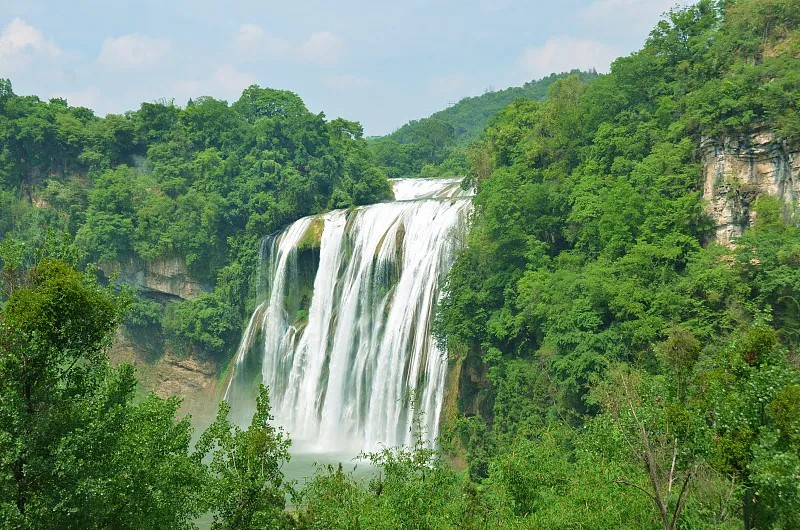Huangguoshu: (227, 179, 475, 453)
